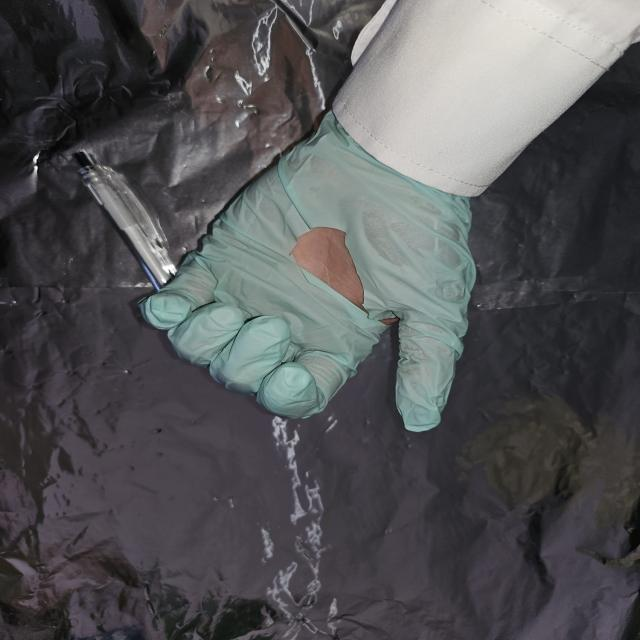gloves_damaged: (137, 106, 476, 433)
